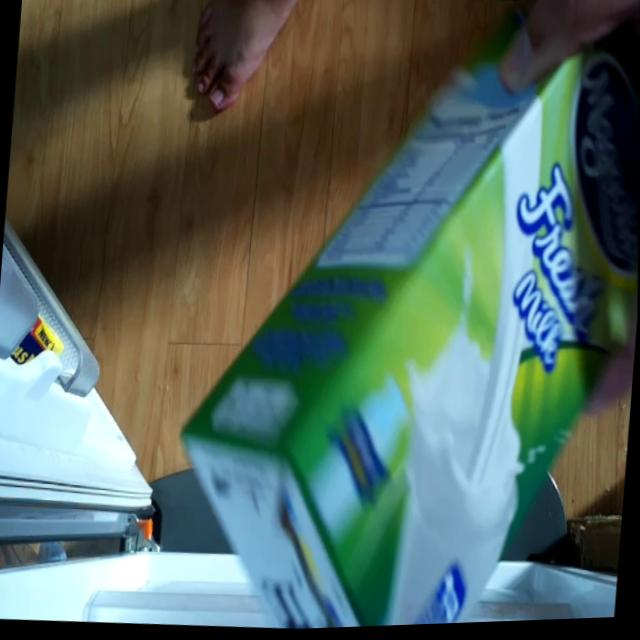milk: (166, 0, 640, 635)
